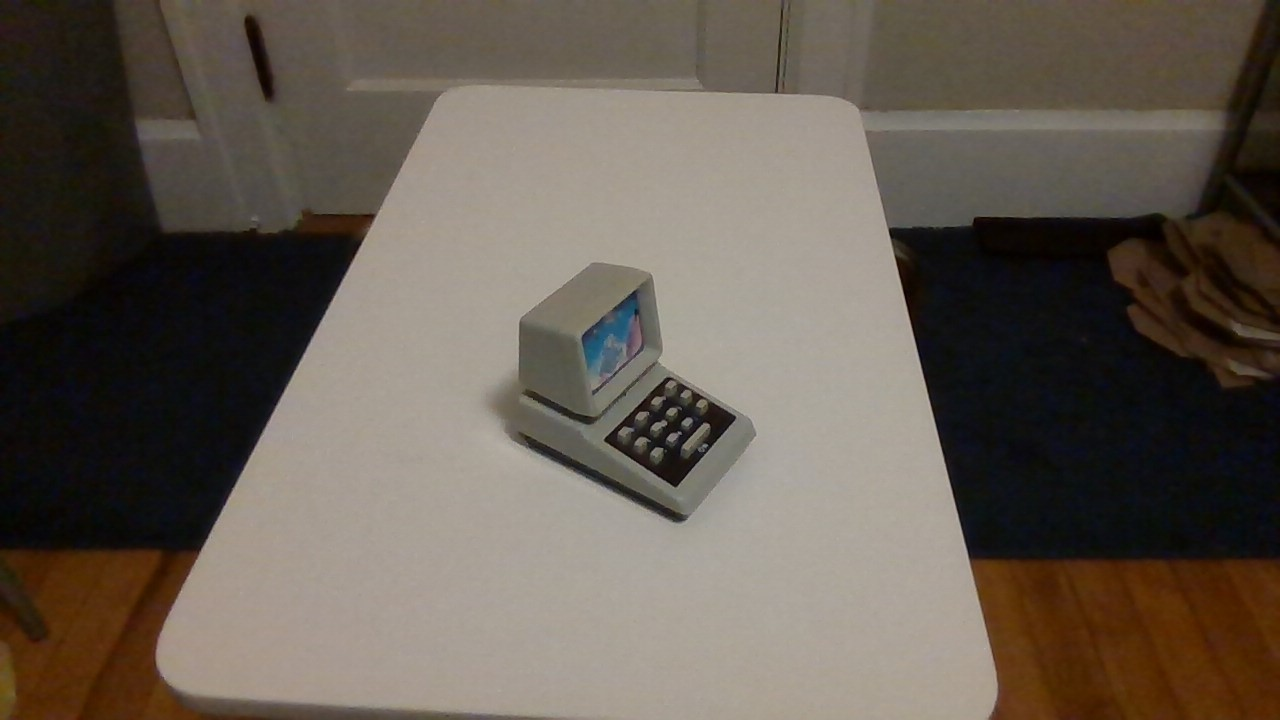Toy: (504, 248, 775, 535)
